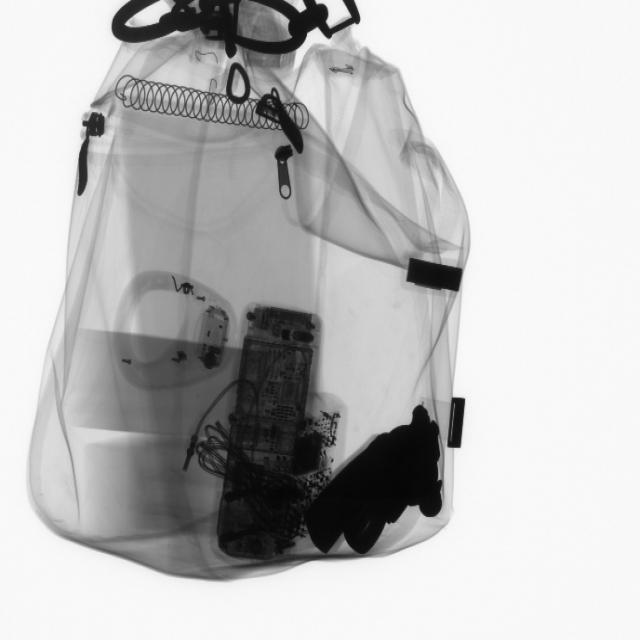GUN: (309, 402, 449, 563), (102, 1, 317, 53)
